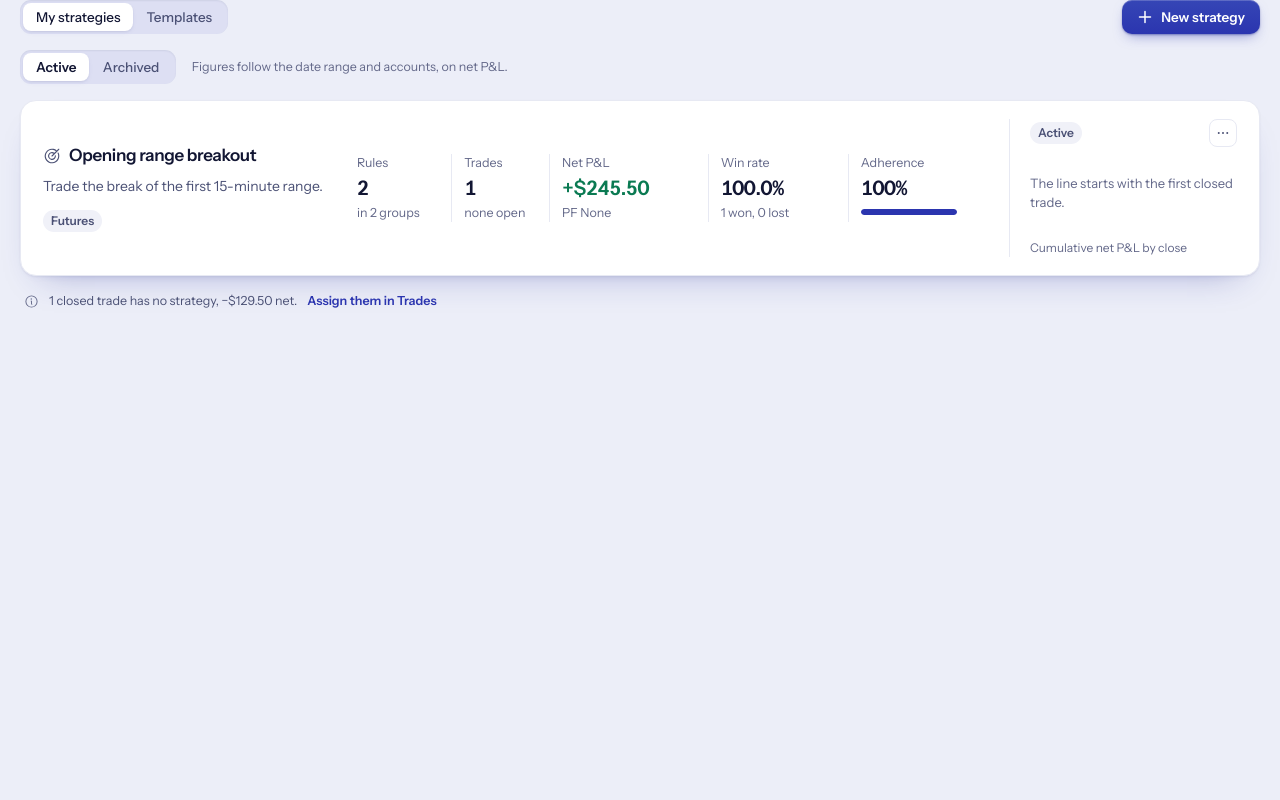
Scenario: the chooser opens on New strategy, and closing it returns to the list
Click the button "New strategy" at (1191, 17), box [1122,0,1260,34]
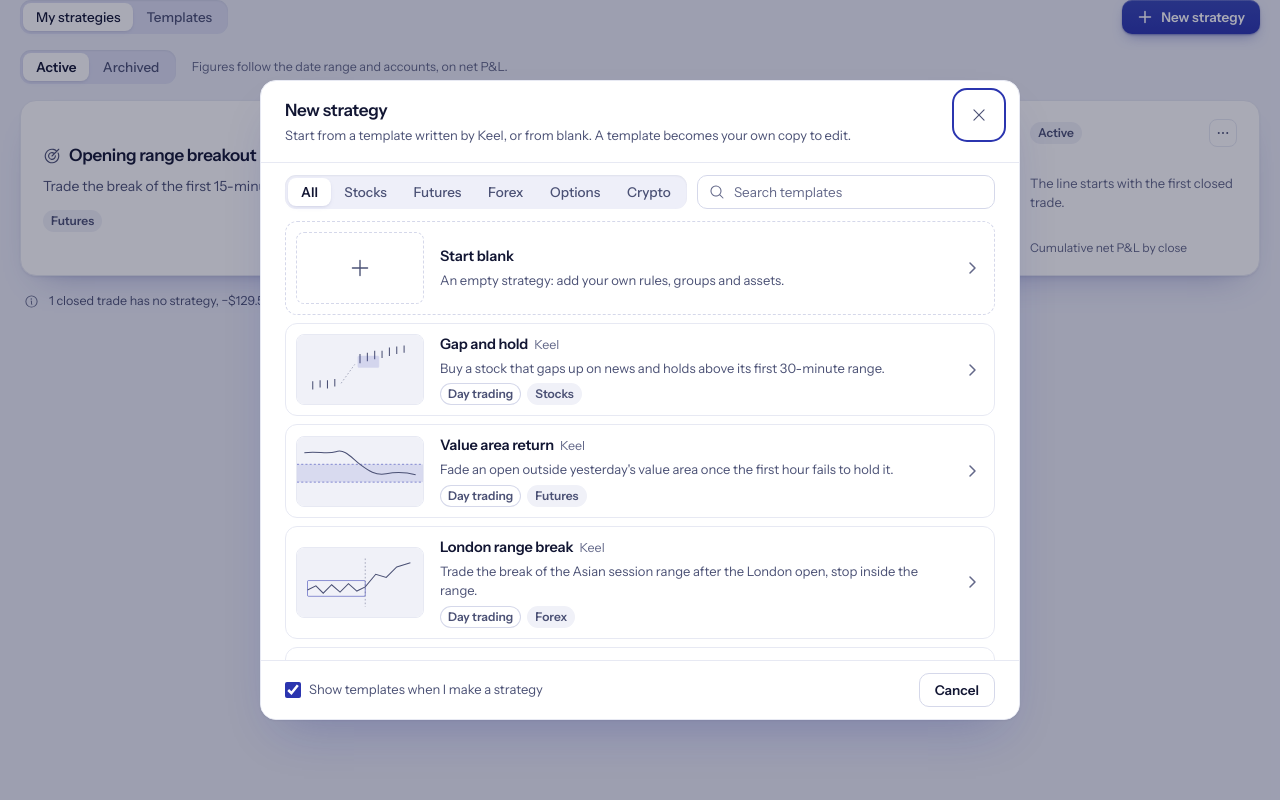
Check: the text "Start blank" is shown, box [440,247,514,265]
Check: the text "Gap and hold" is shown, box [440,334,528,356]
Check: the text "Value area return" is shown, box [440,436,554,457]
Click the button "Cancel" at (957, 690), box [919,673,995,707]
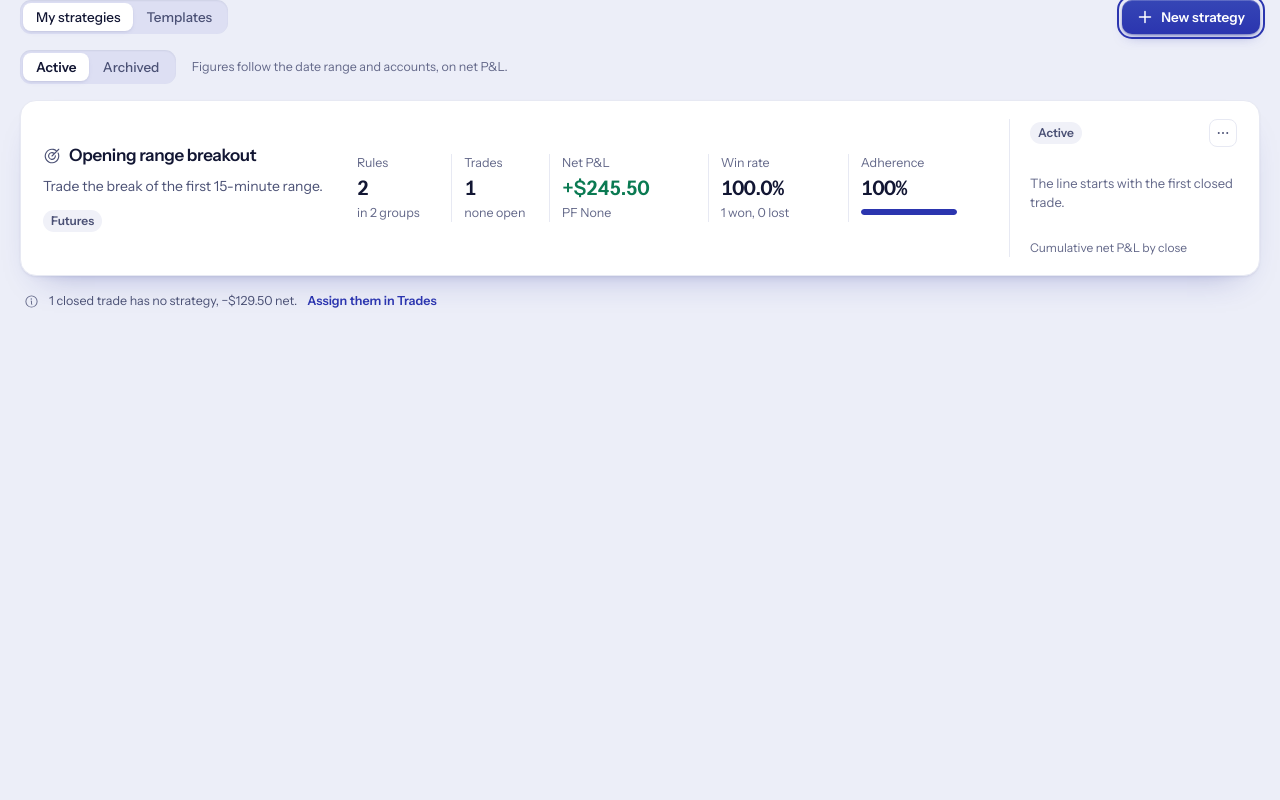
Check: the link "Opening range breakout" is shown, box [69,145,256,165]
Check: the dialog is gone
